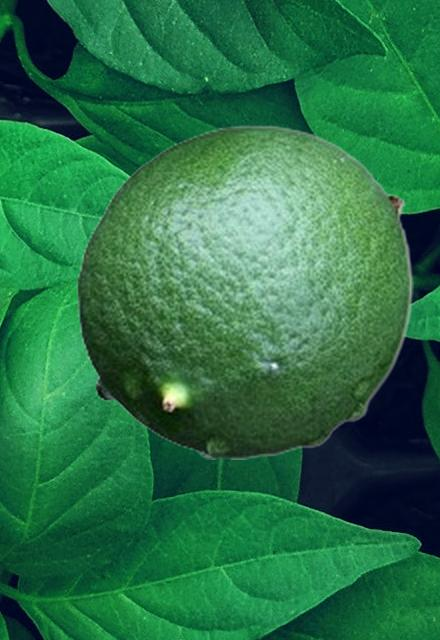calamansi: (76, 124, 412, 458)
